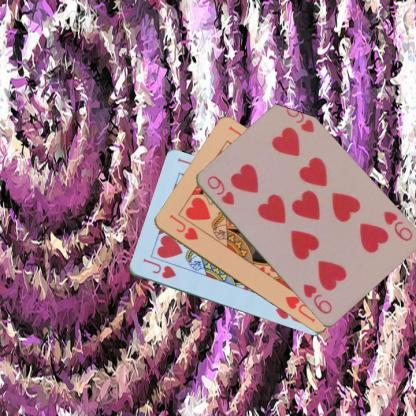9h: (380, 207, 414, 242), (204, 173, 236, 207)
Jh: (166, 212, 200, 242), (140, 256, 177, 280)
